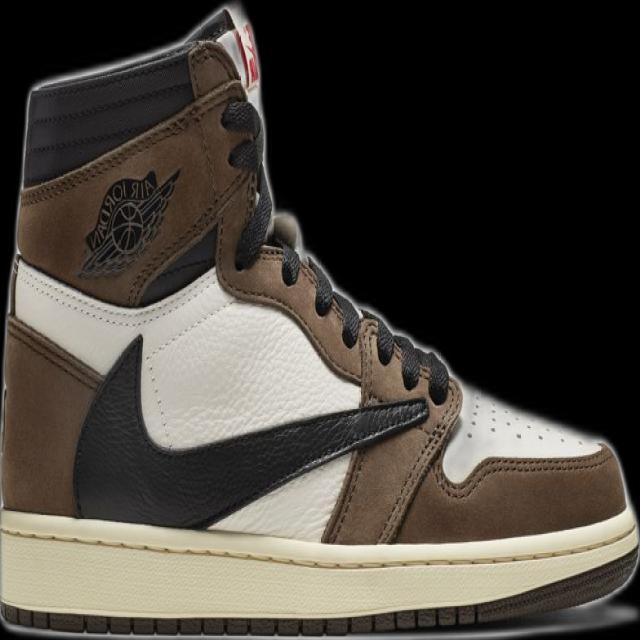J1_InsoleChar: (0, 0, 639, 638)
J1_ShoeLogo: (70, 330, 429, 530), (75, 165, 182, 280)
J1_StitchPattern: (258, 234, 613, 511), (0, 511, 638, 632), (17, 38, 267, 304), (296, 250, 463, 545), (0, 518, 638, 573), (19, 75, 247, 206), (299, 251, 452, 403), (374, 377, 464, 546), (435, 441, 616, 498), (354, 312, 452, 404), (464, 388, 599, 452), (300, 253, 365, 347), (390, 334, 452, 402)
